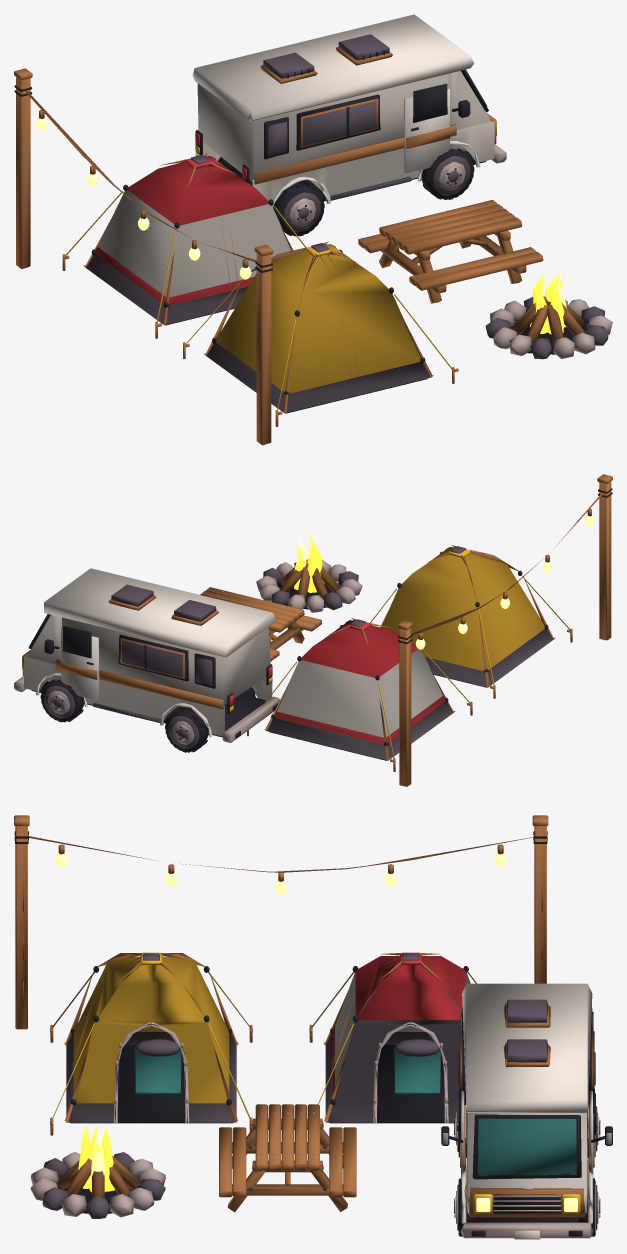
File: kit.campground.lod2.glb
3 renders of one model, top to bottom at view 1: azimuth 30°, elevation 25°; view 2: azimuth 150°, elevation 25°; view 3: azimuth 270°, elevation 25°, orthographic. The views are drawn at different scales.
Visible parts, largest first — view 1: object 5, door_R, wheelFR; view 2: object 5, door_L, wheelFL; view 3: object 5.
Boxes of the visible parts, box(x1,y1,x2,y2) form: object 5: box(14, 14, 612, 445); door_R: box(404, 83, 450, 174); wheelFR: box(421, 148, 474, 199); object 5: box(14, 474, 612, 786); door_L: box(61, 626, 99, 700); wheelFL: box(40, 679, 84, 722); object 5: box(14, 815, 612, 1239).
Size of the model in its own units: 8.52 by 3.49 by 9.01.
